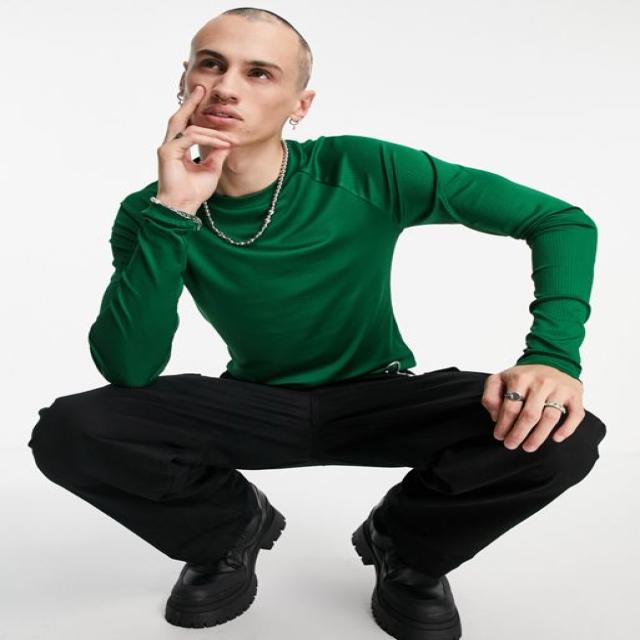tshirt: (85, 131, 597, 390)
